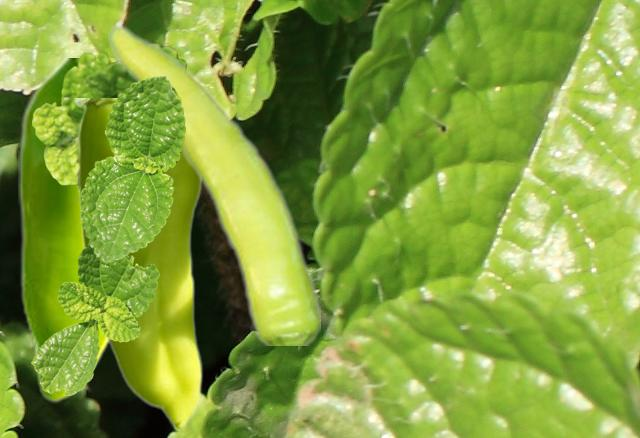green_chili: (108, 22, 319, 344), (72, 98, 202, 428), (18, 58, 114, 402)
